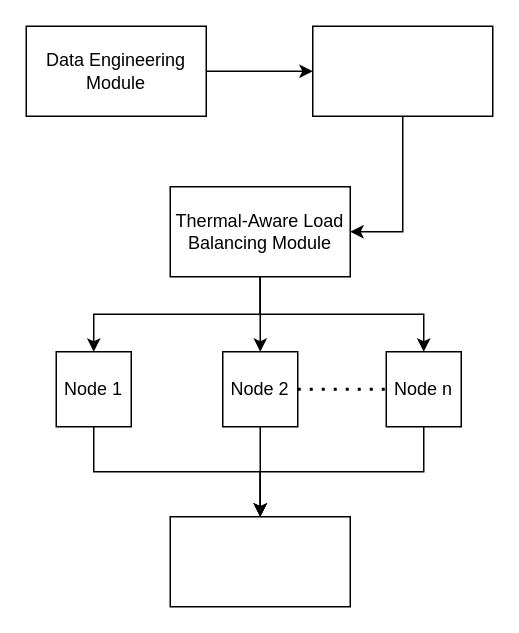
This 519x633 diagram has some shape labels left out. Each missing label, with the centre of its shape:
Physics-Informed Neural Network (PINN) Module: the point at 402,70
Visualization Dashboard and User Interface: the point at 259,561
